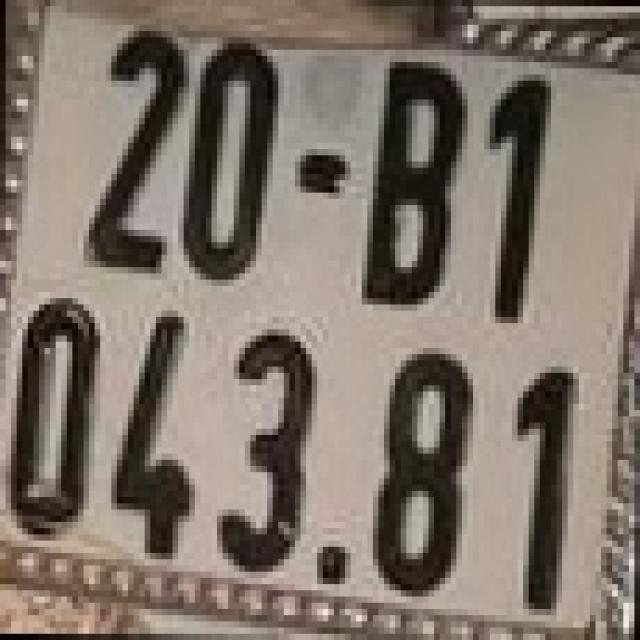0: (178, 12, 289, 298), (0, 292, 100, 534)
1: (506, 360, 584, 616), (478, 68, 556, 323)
2: (78, 18, 184, 280)
3: (212, 323, 318, 572)
4: (111, 304, 200, 560)
8: (367, 342, 479, 596)
B: (356, 49, 473, 310)
